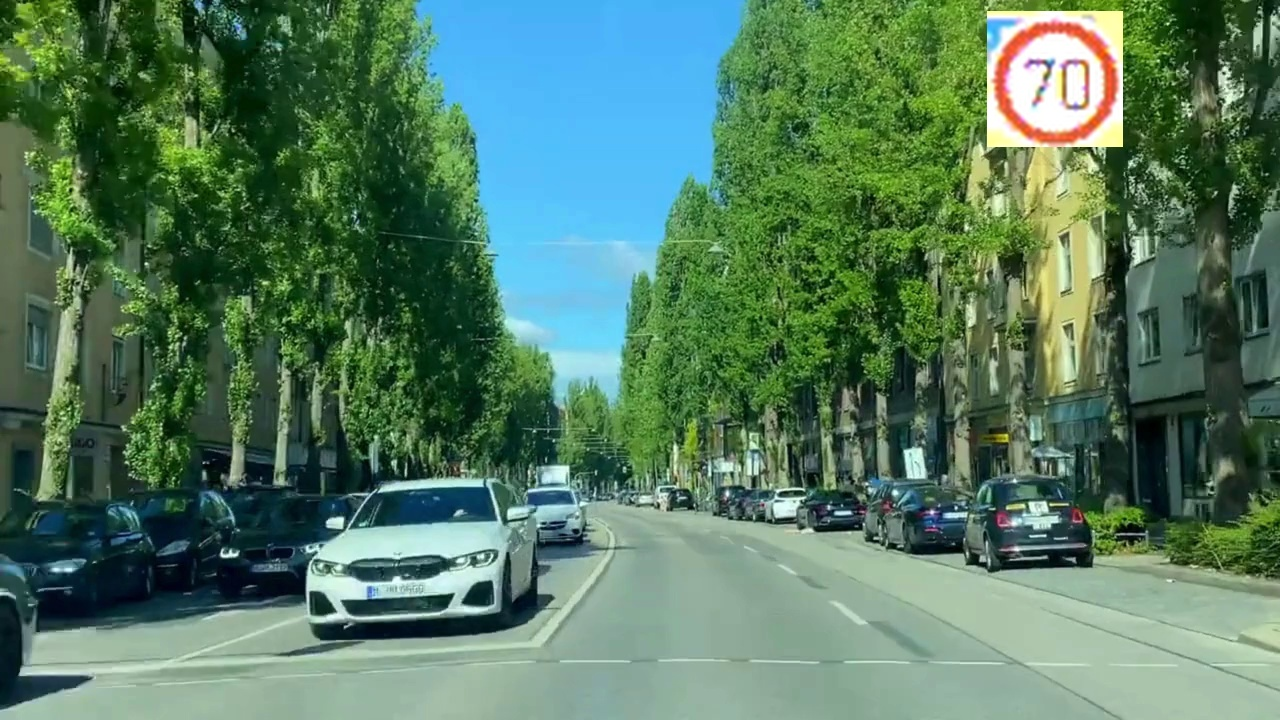Speed 70: (987, 11, 1123, 147)
